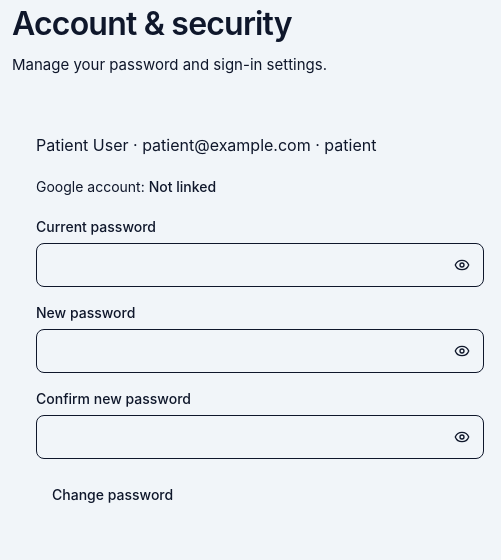
Scenario: Audit fixes verification › BUG-10: Account & security rejects reusing current password as new password
The width and height of the screenshot is (501, 560).
Type "SamePassword123!" into the password field labelled "Current password" at (260, 264), box [36,242,484,286]
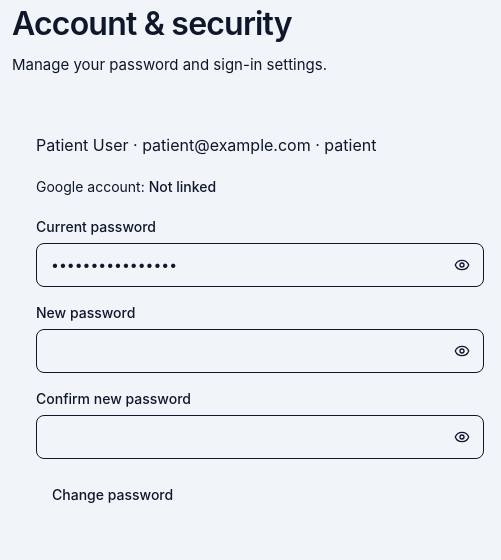
Type "SamePassword123!" into the password field labelled "New password" at (260, 350), box [36,328,484,372]
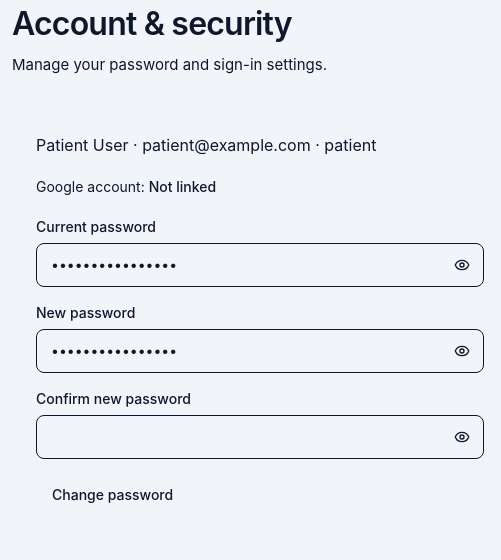
Type "SamePassword123!" into the password field labelled "Confirm new password" at (260, 436), box [36,414,484,458]
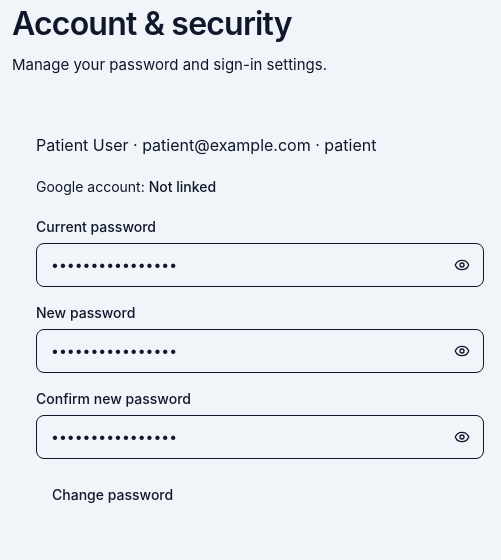
Click the button "Change password" at (113, 494), box [36,474,189,514]
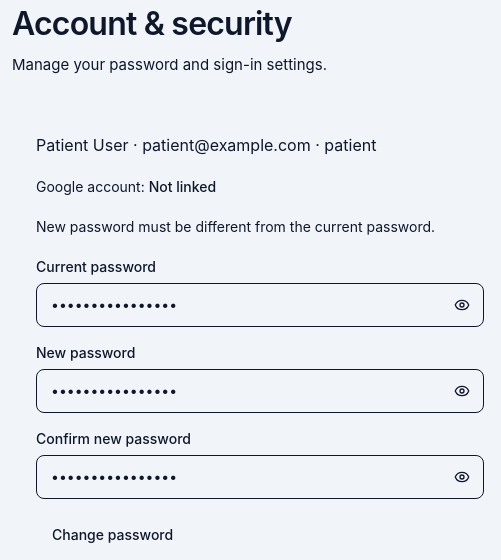
Result: the message reads "New password must be different from the current password." at [36,218,435,234]
